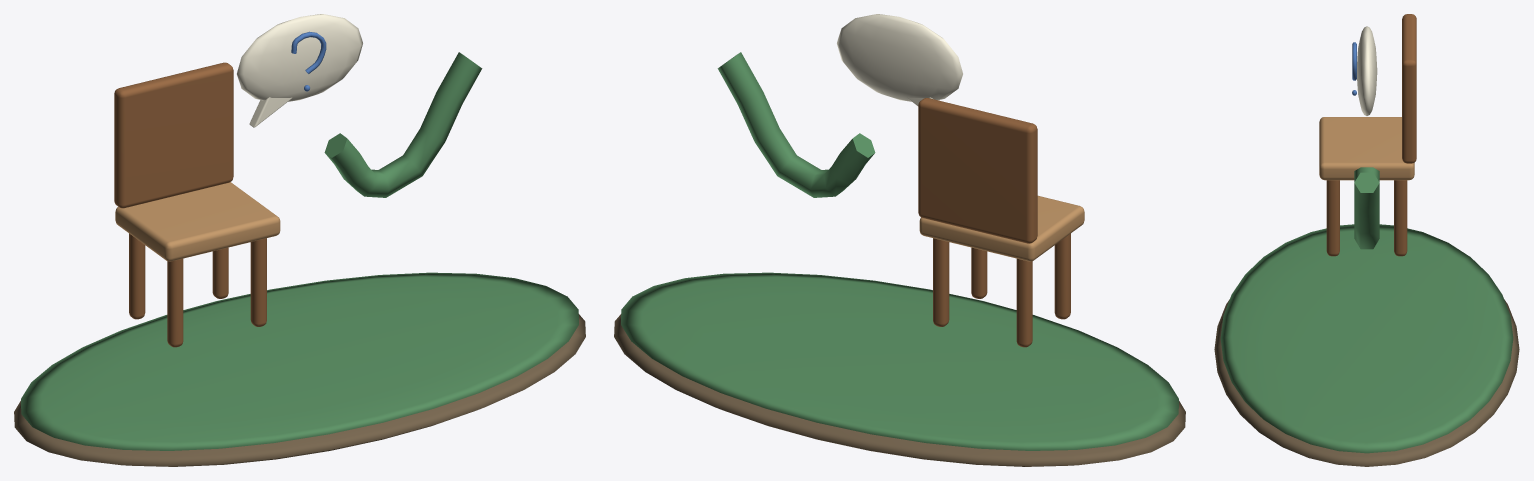
The model's file is complete-second-bench-permission-maybe.glb.
The picture shows the model from 3 angles, left to right: view 1: azimuth 30°, elevation 25°; view 2: azimuth 150°, elevation 25°; view 3: azimuth 270°, elevation 25°; orthographic projection. The views are drawn at different scales.
Visible parts, largest first — view 1: complete-second-bench-permission-maybe_surface_01, complete-second-bench-permission-maybe_surface_03, complete-second-bench-permission-maybe_surface_00, complete-second-bench-permission-maybe_surface_04, complete-second-bench-permission-maybe_surface_02; view 2: complete-second-bench-permission-maybe_surface_01, complete-second-bench-permission-maybe_surface_03, complete-second-bench-permission-maybe_surface_00, complete-second-bench-permission-maybe_surface_04, complete-second-bench-permission-maybe_surface_02; view 3: complete-second-bench-permission-maybe_surface_01, complete-second-bench-permission-maybe_surface_00, complete-second-bench-permission-maybe_surface_02, complete-second-bench-permission-maybe_surface_03, complete-second-bench-permission-maybe_surface_04.
Part boxes in pixels (left/top/right/bottom): complete-second-bench-permission-maybe_surface_01: left=21, top=52, right=578, bottom=450; complete-second-bench-permission-maybe_surface_03: left=114, top=62, right=266, bottom=347; complete-second-bench-permission-maybe_surface_00: left=14, top=314, right=585, bottom=466; complete-second-bench-permission-maybe_surface_04: left=237, top=14, right=362, bottom=127; complete-second-bench-permission-maybe_surface_02: left=115, top=182, right=280, bottom=261; complete-second-bench-permission-maybe_surface_01: left=621, top=52, right=1178, bottom=450; complete-second-bench-permission-maybe_surface_03: left=918, top=98, right=1070, bottom=347; complete-second-bench-permission-maybe_surface_00: left=614, top=314, right=1185, bottom=466; complete-second-bench-permission-maybe_surface_04: left=837, top=14, right=962, bottom=106; complete-second-bench-permission-maybe_surface_02: left=919, top=195, right=1084, bottom=261; complete-second-bench-permission-maybe_surface_01: left=1220, top=167, right=1513, bottom=453; complete-second-bench-permission-maybe_surface_00: left=1214, top=299, right=1519, bottom=466; complete-second-bench-permission-maybe_surface_02: left=1319, top=117, right=1414, bottom=180; complete-second-bench-permission-maybe_surface_03: left=1326, top=14, right=1416, bottom=256; complete-second-bench-permission-maybe_surface_04: left=1357, top=26, right=1377, bottom=115.
Bounding box in the file's own units: 4.56 × 2.98 × 2.5.
